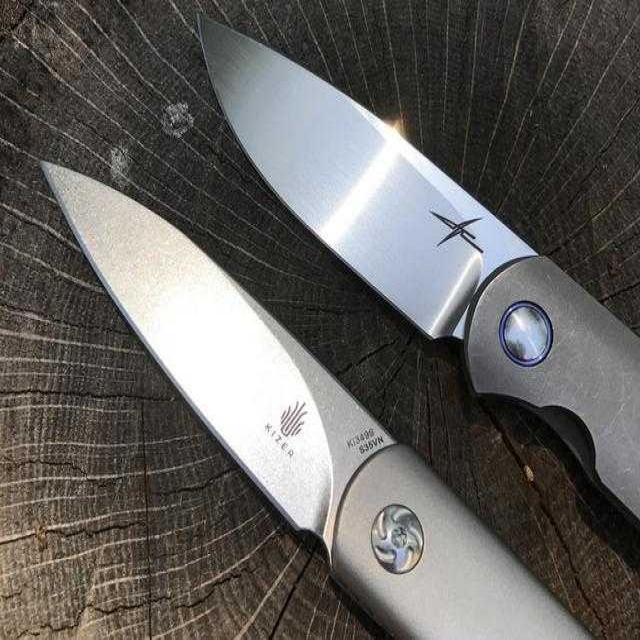knife: (33, 4, 640, 640)
